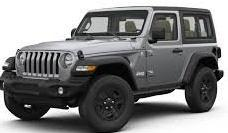SUV: (1, 7, 225, 133)
